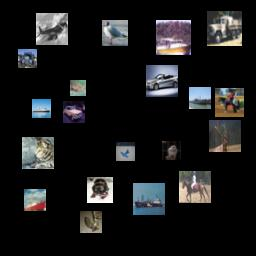airplane: (36, 13, 68, 45), (116, 142, 135, 161)
automobile: (146, 65, 178, 97), (63, 101, 85, 123)
bird: (102, 20, 128, 46), (162, 141, 181, 160)
cat: (22, 137, 54, 169), (80, 211, 102, 233)
deer: (209, 120, 241, 152), (70, 80, 86, 96)
dog: (87, 177, 113, 203)
ship: (156, 20, 191, 55), (133, 183, 165, 215), (189, 87, 211, 109), (24, 189, 46, 211), (32, 99, 51, 118)
truck: (207, 11, 242, 46), (18, 49, 37, 68)
